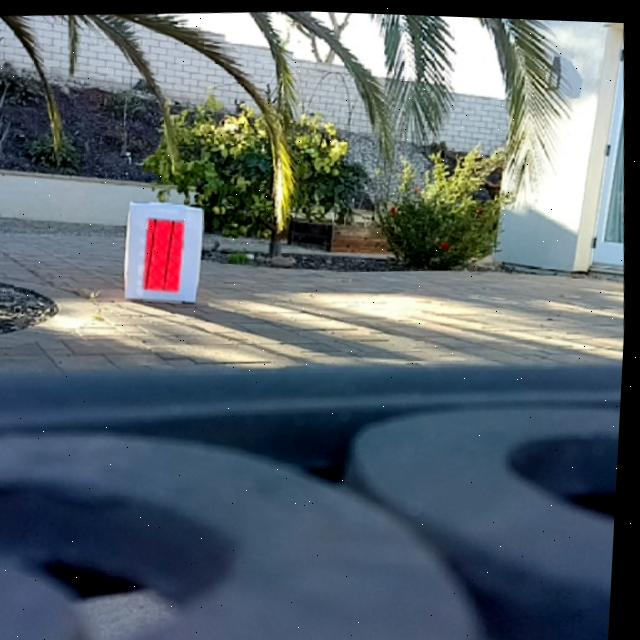led: (144, 217, 187, 293)
